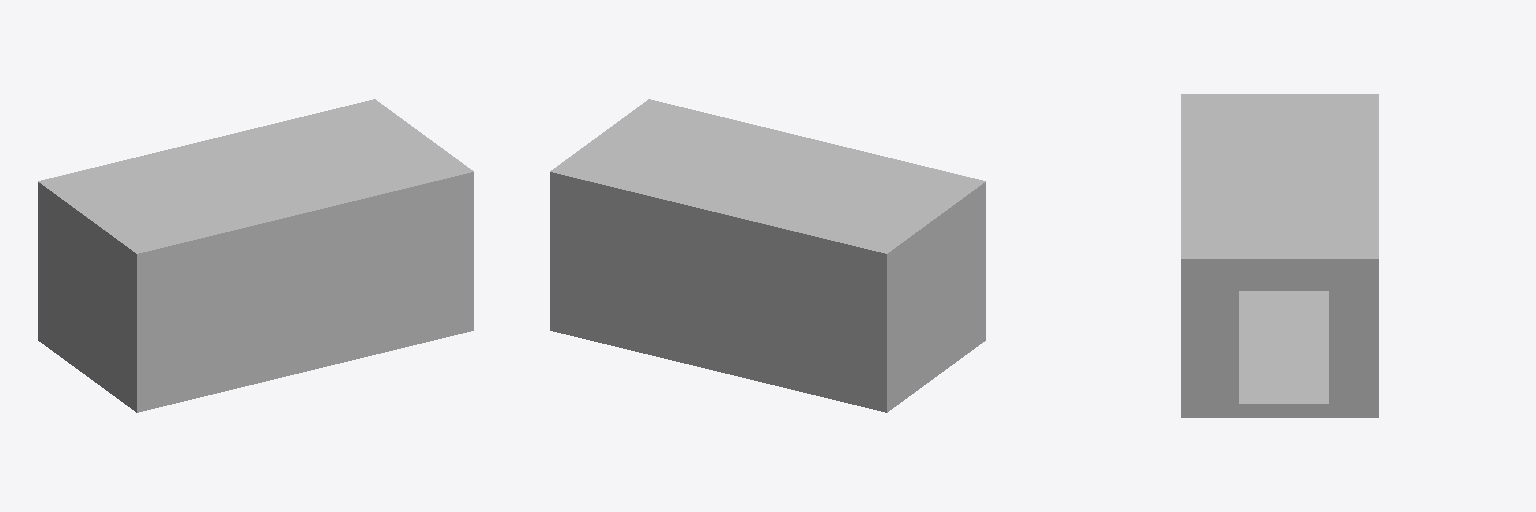
File: corridor.obj
The picture shows the model from 3 angles: view 1: azimuth 30°, elevation 25°; view 2: azimuth 150°, elevation 25°; view 3: azimuth 270°, elevation 25°; orthographic projection.
Bounding box in the file's own units: 100 × 45 × 51.